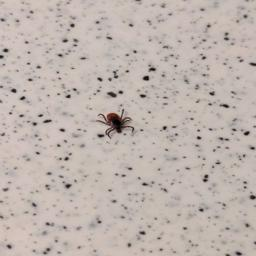Ixodes scapularis: (97, 111, 135, 138)
